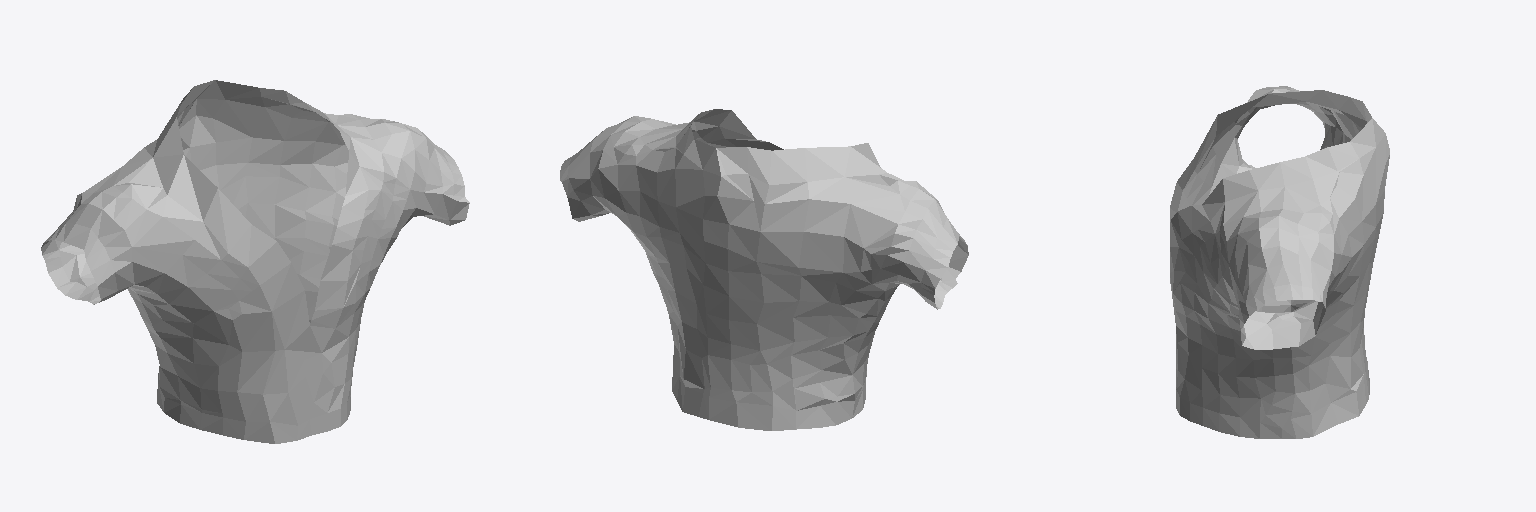
Rendered from Yoda_Shirt_3.obj.
3 views of the same model, side by side, from view 1: azimuth 30°, elevation 25°; view 2: azimuth 150°, elevation 25°; view 3: azimuth 270°, elevation 25° (orthographic).
Parts seen in each view (by area): view 1: Yoda_Mesh_Export_to_Blender_polystrips.001; view 2: Yoda_Mesh_Export_to_Blender_polystrips.001; view 3: Yoda_Mesh_Export_to_Blender_polystrips.001.
Part boxes in pixels (left/top/right/bottom): Yoda_Mesh_Export_to_Blender_polystrips.001: left=41, top=80, right=469, bottom=443; Yoda_Mesh_Export_to_Blender_polystrips.001: left=560, top=109, right=968, bottom=430; Yoda_Mesh_Export_to_Blender_polystrips.001: left=1170, top=86, right=1389, bottom=438.
Bounding box in the file's own units: 3.22 × 2.26 × 1.57.